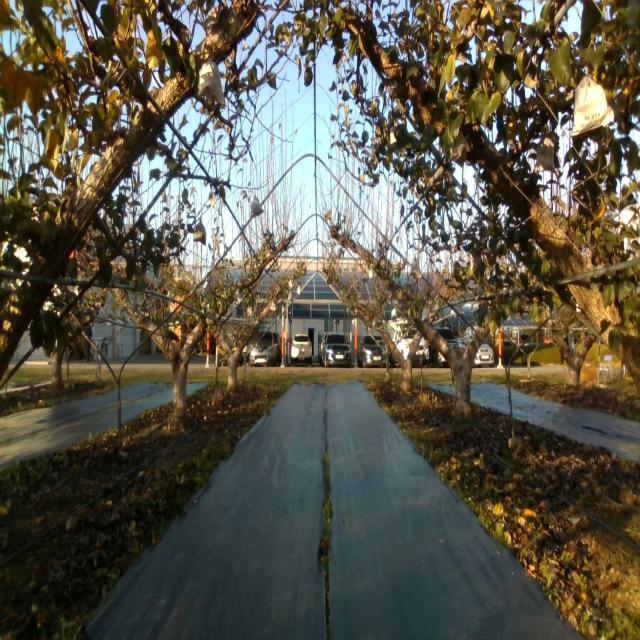pearbags: (570, 73, 615, 137), (198, 57, 225, 106), (535, 136, 556, 173), (193, 218, 206, 245), (409, 258, 421, 280), (251, 196, 263, 218)
